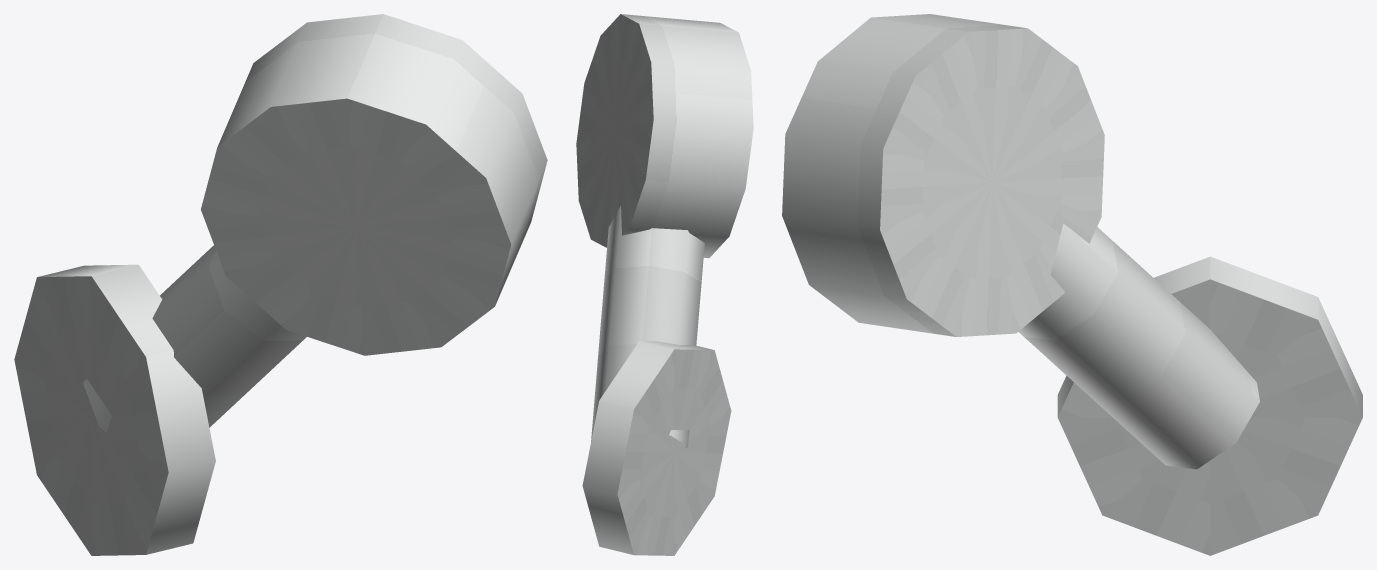
The model's file is nycsignalarm_stub_80.obj.
3 renders of one model, left to right at view 1: azimuth 30°, elevation 25°; view 2: azimuth 150°, elevation 25°; view 3: azimuth 270°, elevation 25°, orthographic. The views are drawn at different scales.
Visible parts, largest first — view 1: nycsignalarm_stub_80; view 2: nycsignalarm_stub_80; view 3: nycsignalarm_stub_80.
Boxes of the visible parts, x1,y1,x2,y2 form: nycsignalarm_stub_80: [14, 14, 547, 555]; nycsignalarm_stub_80: [576, 14, 753, 555]; nycsignalarm_stub_80: [782, 14, 1362, 555].
Size of the model in its own units: 0.3855 by 0.7379 by 0.666.
